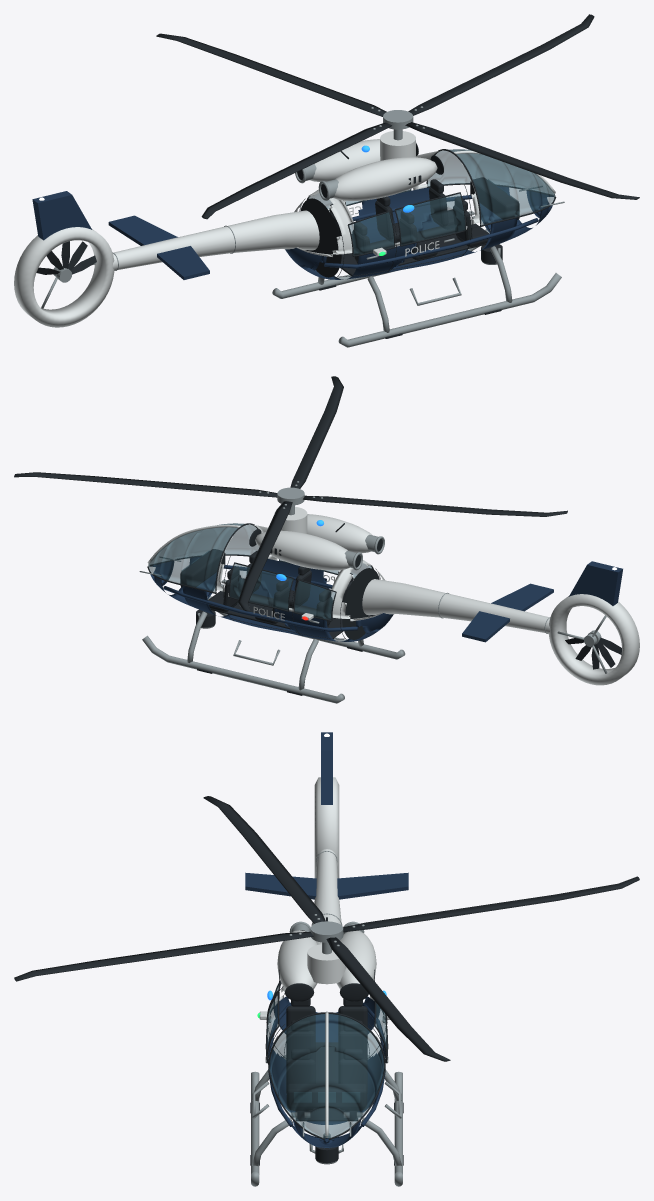
File: helicopter_police.glb
The picture shows the model from 3 angles, top to bottom: view 1: azimuth 30°, elevation 25°; view 2: azimuth 150°, elevation 25°; view 3: azimuth 270°, elevation 25°; orthographic projection. The views are drawn at different scales.
Visible parts, largest first — view 1: Airframe, MainRotor, TailRotor; view 2: Airframe, MainRotor, TailRotor; view 3: Airframe, MainRotor.
Part boxes in pixels (bbox=[...]): Airframe: bbox=[14, 129, 564, 347]; MainRotor: bbox=[156, 14, 639, 219]; TailRotor: bbox=[36, 241, 96, 282]; Airframe: bbox=[139, 505, 639, 703]; MainRotor: bbox=[14, 376, 567, 611]; TailRotor: bbox=[565, 630, 621, 669]; Airframe: bbox=[245, 732, 408, 1186]; MainRotor: bbox=[14, 796, 639, 1061].
Bounding box in the file's own units: 12.08 × 3.52 × 9.58.
